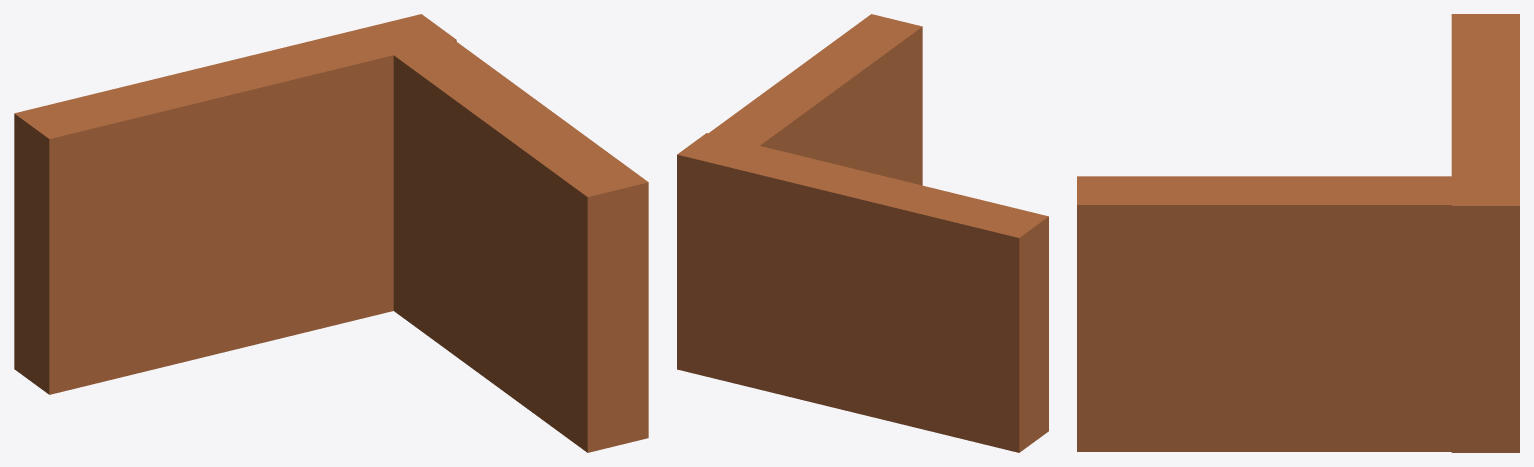
File: suporte.glb
3 renders of one model, left to right at view 1: azimuth 30°, elevation 25°; view 2: azimuth 150°, elevation 25°; view 3: azimuth 270°, elevation 25°, orthographic. The views are drawn at different scales.
Parts seen in each view (by area): view 1: geometry_0; view 2: geometry_0; view 3: geometry_0.
Part boxes in pixels (<box>): geometry_0: <box>14,14,648,452</box>; geometry_0: <box>677,14,1048,452</box>; geometry_0: <box>1077,14,1519,452</box>.
Bounding box in the file's own units: 1 × 0.6 × 0.975.
